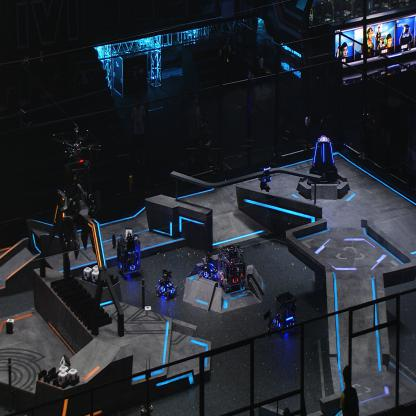car: (218, 242, 247, 290), (270, 289, 297, 337), (116, 230, 141, 277), (156, 266, 177, 300), (199, 249, 219, 282)
